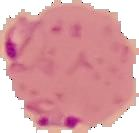parasitized: (8, 5, 138, 129), (27, 96, 89, 132), (5, 16, 45, 68)
